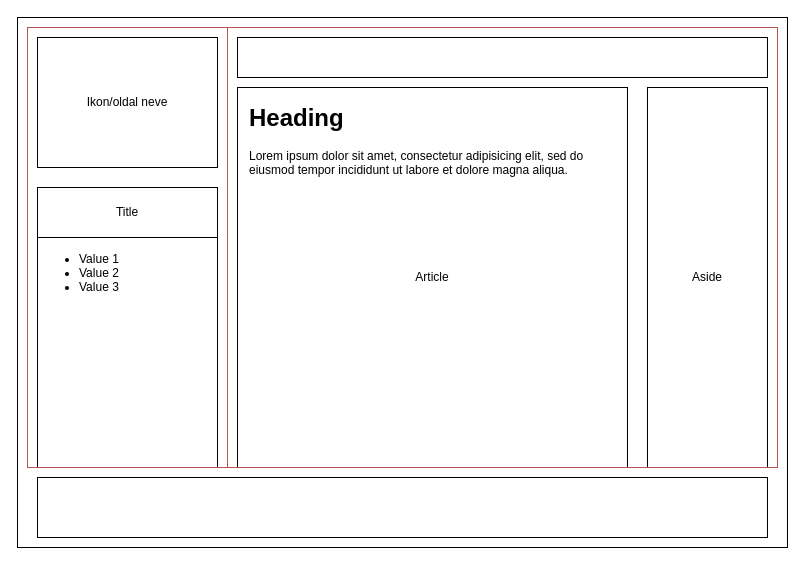
Some shapes in this 805 by 573 pixel diagram are drawn without their labels. The centre of each missing label's shape, as x and y in pixels:
"Fejlec, NAV" belongs at point (502, 57).
"Footer (neveink)" belongs at point (402, 507).
